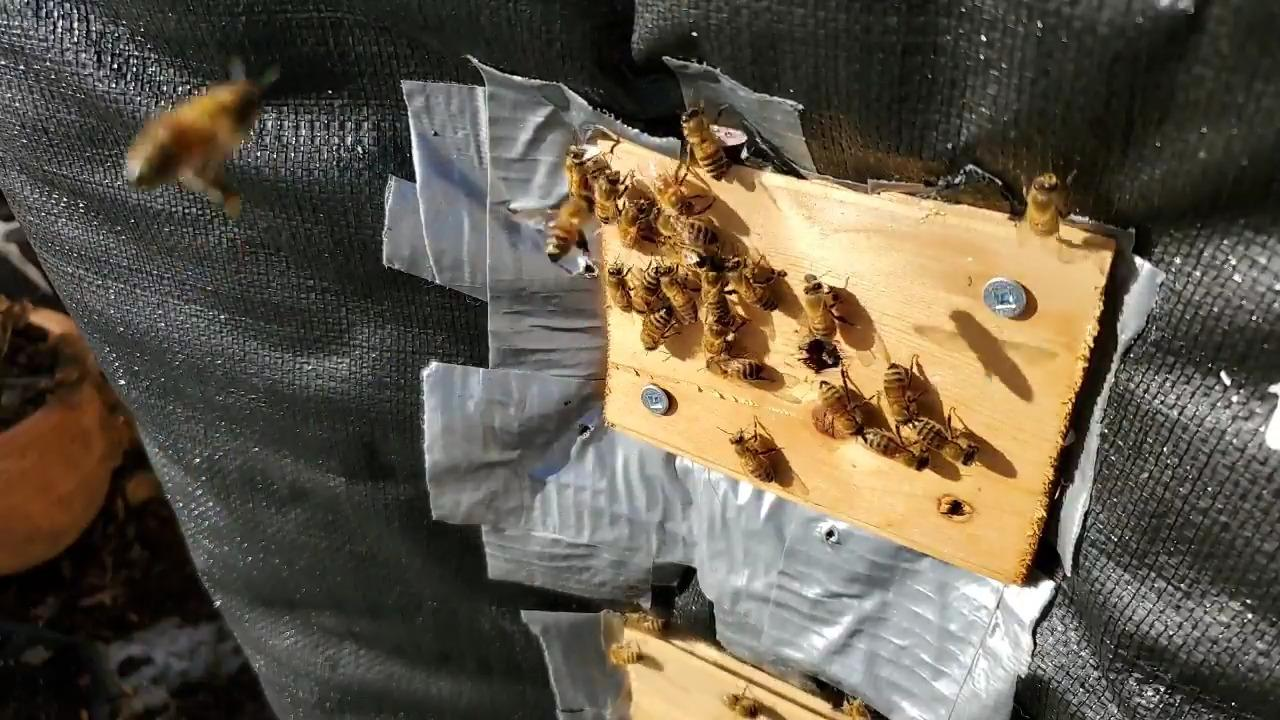bee: (136, 86, 258, 182), (682, 110, 727, 180), (861, 427, 929, 470), (911, 420, 977, 464), (725, 261, 780, 311), (548, 198, 585, 261), (821, 381, 861, 437), (653, 209, 715, 245), (729, 434, 774, 482), (883, 364, 917, 426), (658, 266, 695, 321), (804, 282, 836, 340), (1028, 177, 1059, 236), (567, 146, 594, 201), (594, 170, 622, 223), (658, 172, 692, 214), (699, 313, 730, 356), (706, 356, 764, 378), (620, 198, 647, 244), (632, 266, 660, 310), (606, 268, 632, 314), (641, 308, 669, 348), (702, 268, 725, 315), (662, 244, 708, 266), (726, 690, 760, 718), (610, 644, 643, 663), (623, 616, 666, 630)
